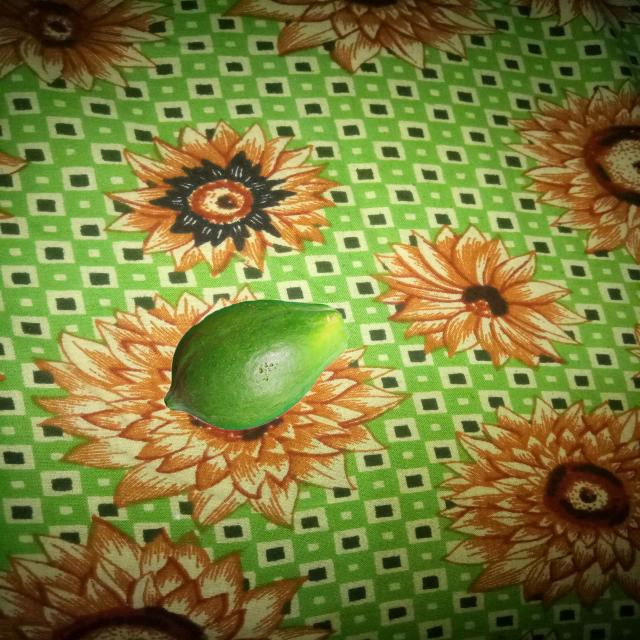Pepaya unrippen: (159, 295, 359, 434)
